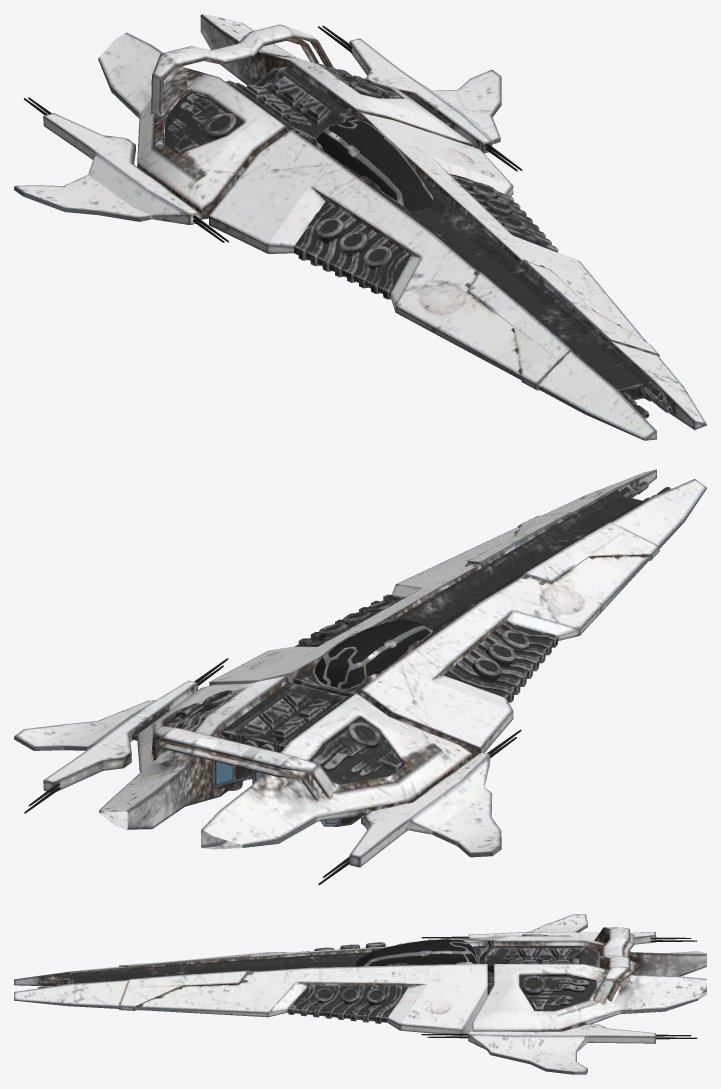
Rendered from vessel.glb.
The picture shows the model from 3 angles, top to bottom: view 1: azimuth 30°, elevation 25°; view 2: azimuth 150°, elevation 25°; view 3: azimuth 270°, elevation 25°; orthographic projection. The views are drawn at different scales.
Parts seen in each view (by area): view 1: pCube33_metalplating_0; view 2: pCube33_metalplating_0; view 3: pCube33_metalplating_0.
Part boxes in pixels (x1,y1,x2,y2): pCube33_metalplating_0: [14, 14, 706, 440]; pCube33_metalplating_0: [14, 469, 706, 885]; pCube33_metalplating_0: [14, 914, 706, 1074].
Size of the model in its own units: 15.12 by 2.87 by 28.
Materials: 6 (2 with a texture image).
